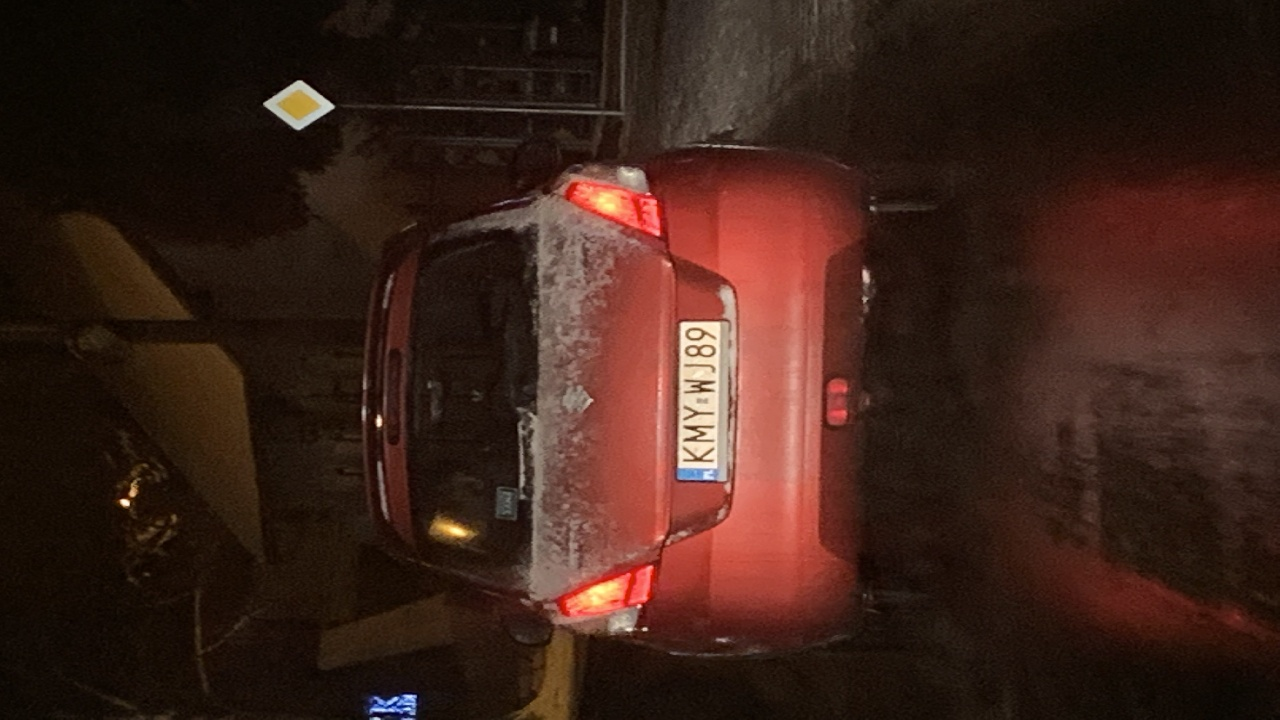D1: (261, 74, 344, 139)
